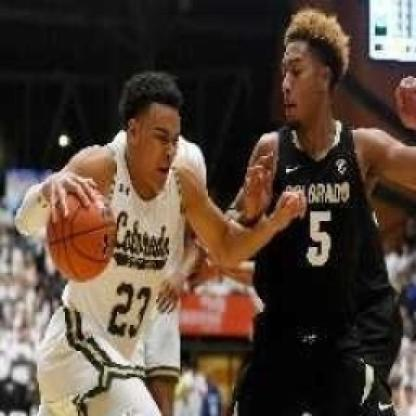basketball: (52, 189, 110, 277)
